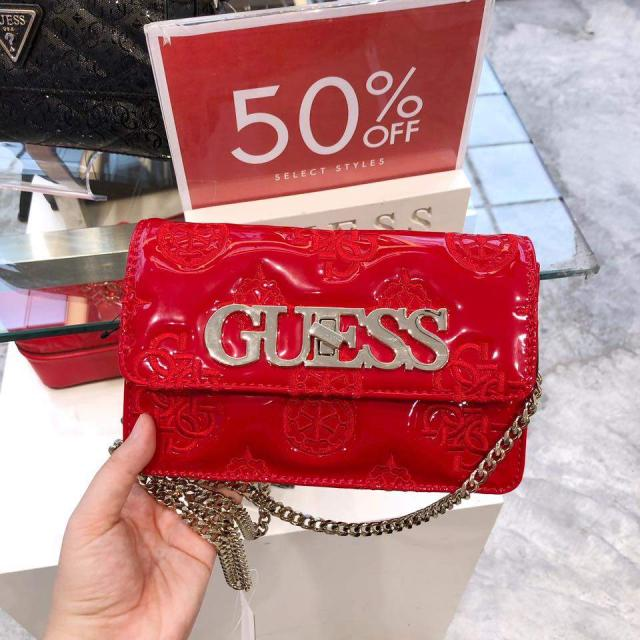Handbag: (105, 214, 535, 496)
